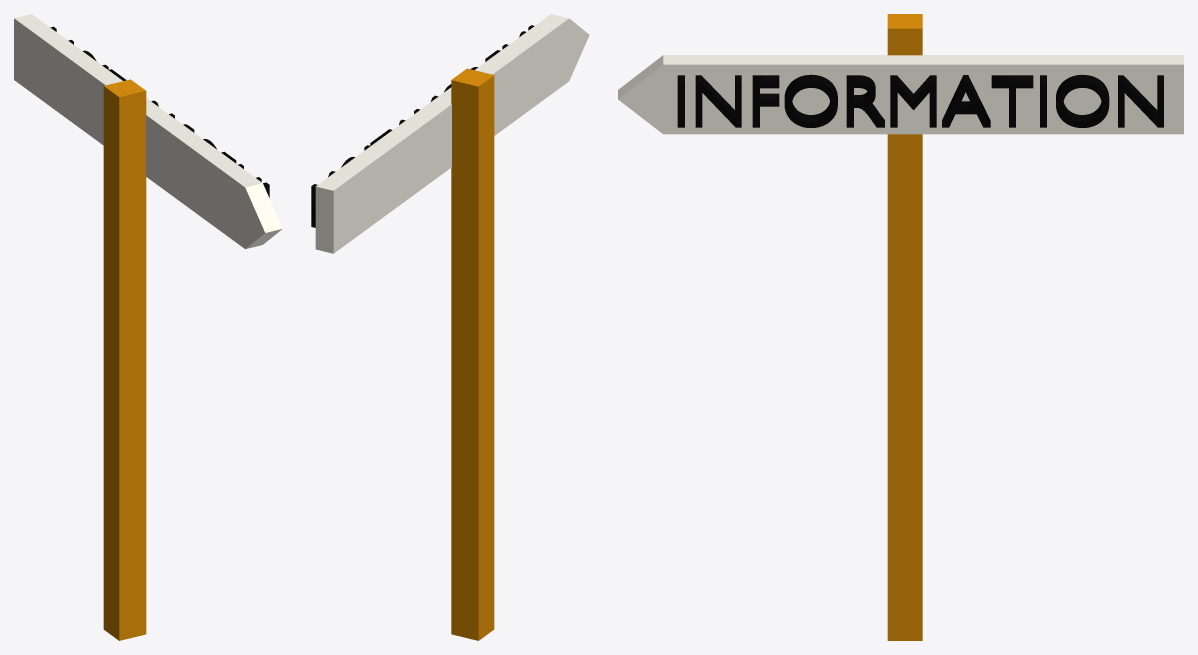
Rendered from INFORMATION.fbx.
3 renders of one model, left to right at view 1: azimuth 30°, elevation 25°; view 2: azimuth 150°, elevation 25°; view 3: azimuth 270°, elevation 25°, orthographic. The views are drawn at different scales.
Parts seen in each view (by area): view 1: Cube, Cubo, Texto; view 2: Cube, Cubo, Texto; view 3: Cubo, Cube, Texto.
Part boxes in pixels (bbox=[...]): Cube: bbox=[103, 79, 146, 640]; Cubo: bbox=[14, 14, 282, 249]; Texto: bbox=[50, 26, 269, 197]; Cube: bbox=[451, 68, 494, 640]; Cubo: bbox=[315, 14, 589, 253]; Texto: bbox=[311, 25, 534, 227]; Cubo: bbox=[618, 55, 1183, 134]; Cube: bbox=[887, 14, 922, 640]; Texto: bbox=[677, 74, 1163, 127].
Bounding box in the file's own units: 49.54 × 452 × 378.
